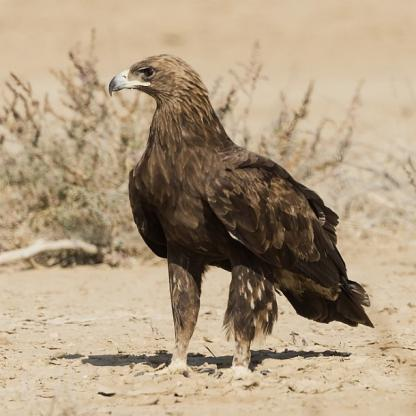Burung: (105, 53, 374, 375)
